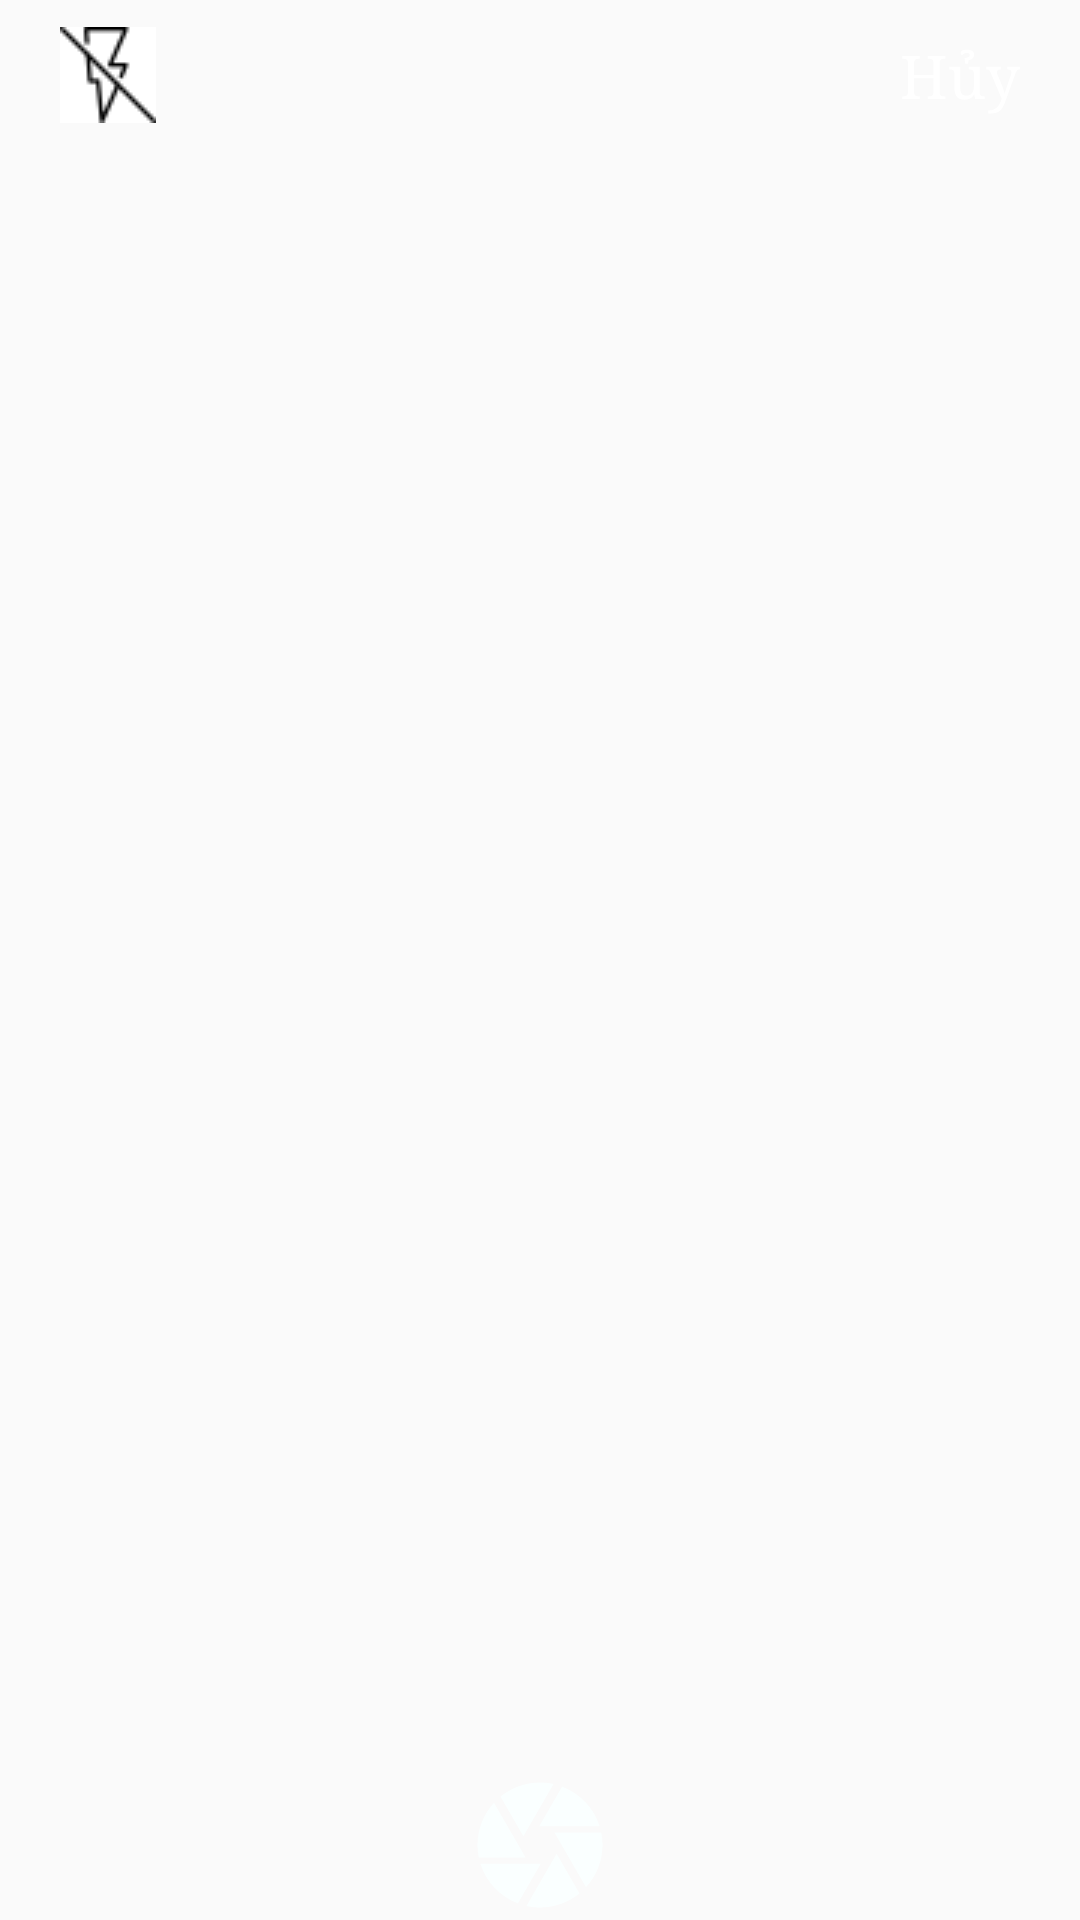

Icons on this 1080*1920 Android screen, each with the point to tap as [x,y]:
flash off: [108,75]
